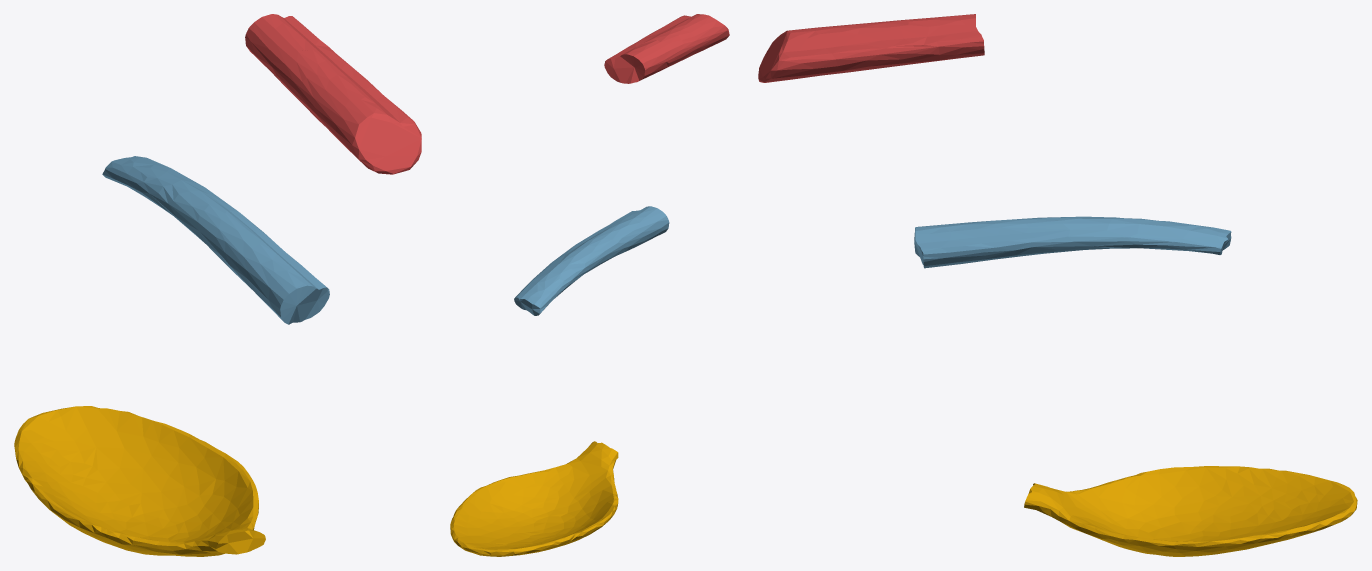
The model's file is mode_2_3pcs_transformed.glb.
3 renders of one model, left to right at view 1: azimuth 30°, elevation 25°; view 2: azimuth 150°, elevation 25°; view 3: azimuth 270°, elevation 25°, orthographic. The views are drawn at different scales.
Visible parts, largest first — view 1: piece_0.obj, piece_1.obj, piece_2.obj; view 2: piece_0.obj, piece_2.obj, piece_1.obj; view 3: piece_0.obj, piece_2.obj, piece_1.obj.
Boxes of the visible parts, bbox=[...] form: piece_0.obj: bbox=[14, 406, 265, 556]; piece_1.obj: bbox=[245, 14, 421, 174]; piece_2.obj: bbox=[102, 156, 329, 324]; piece_0.obj: bbox=[450, 441, 618, 556]; piece_2.obj: bbox=[514, 206, 669, 315]; piece_1.obj: bbox=[604, 14, 729, 83]; piece_0.obj: bbox=[1024, 466, 1357, 556]; piece_2.obj: bbox=[914, 216, 1231, 268]; piece_1.obj: bbox=[758, 14, 984, 82].
Size of the model in its own units: 0.217 by 0.6779 by 0.7.
